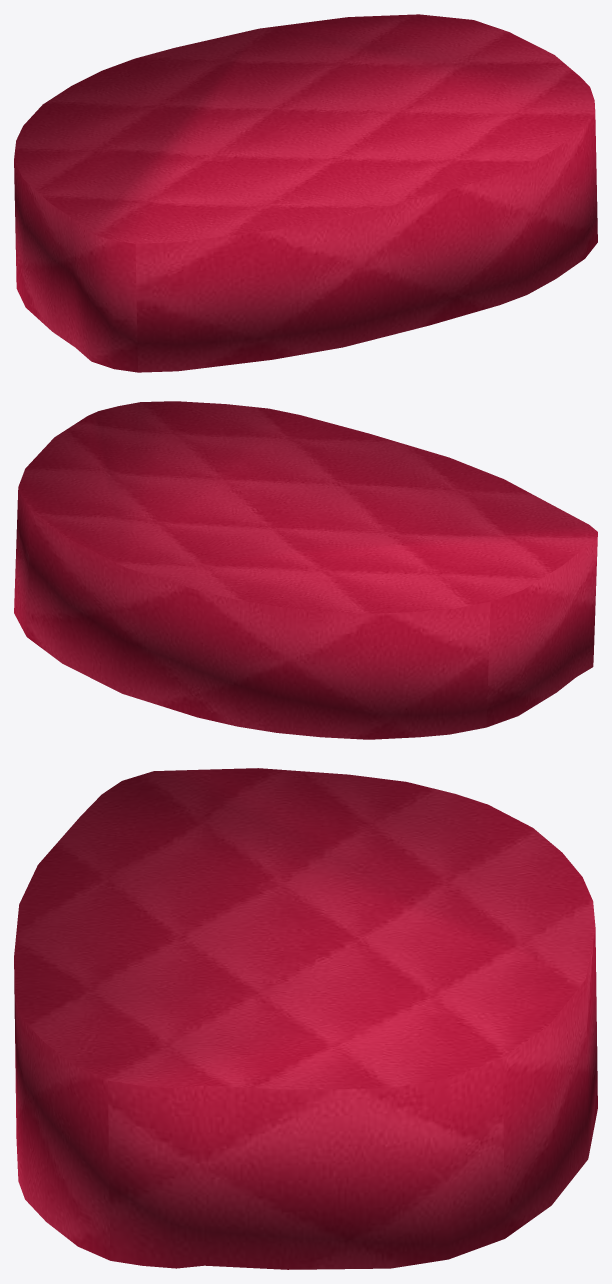
The model's file is pouffe.fbx.
3 views of the same model, one above another, from view 1: azimuth 30°, elevation 25°; view 2: azimuth 150°, elevation 25°; view 3: azimuth 270°, elevation 25° (orthographic). The views are drawn at different scales.
Visible parts, largest first — view 1: Cylinder; view 2: Cylinder; view 3: Cylinder.
Boxes of the visible parts, <box> form: Cylinder: <box>14,14,597,372</box>; Cylinder: <box>14,401,597,739</box>; Cylinder: <box>14,768,597,1269</box>.
Size of the model in its own units: 351 by 99.04 by 251.
